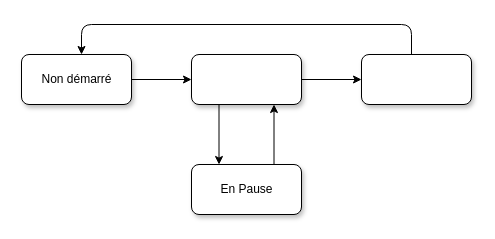
Some shapes in this 495 by 239 pixel diagram are drawn without their labels. Each missing label, with the centre of its shape:
"En cours" belongs at [247,81].
"Terminé" belongs at [417,81].
